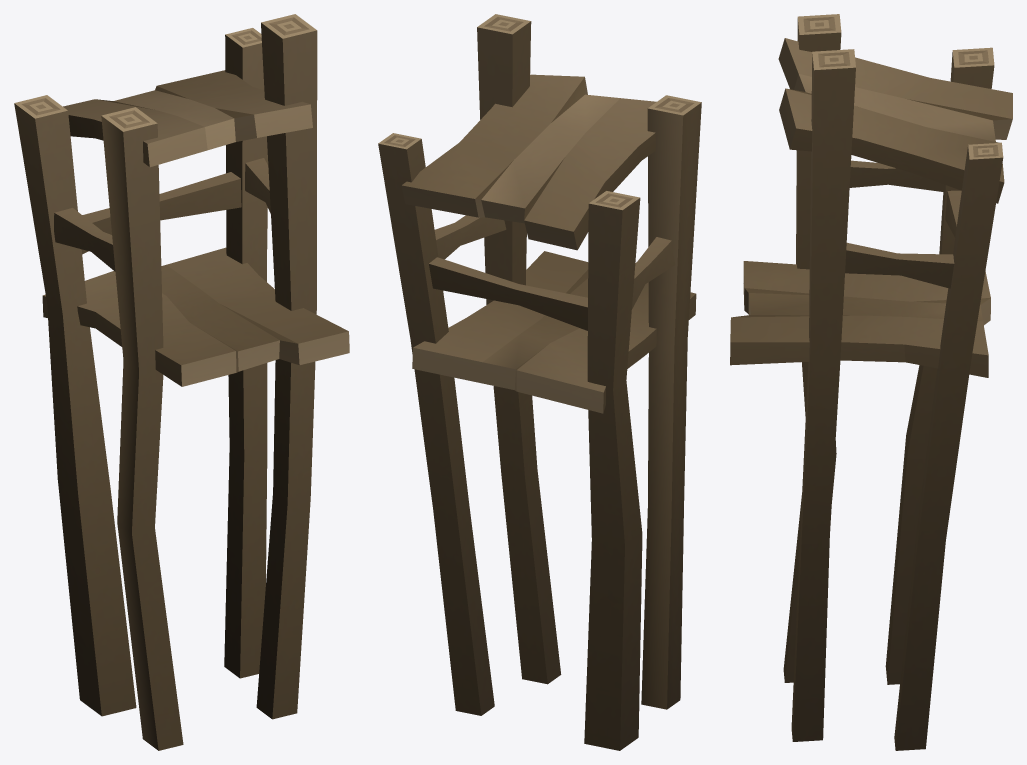
File: orc_high_stand.fbx
3 renders of one model, left to right at view 1: azimuth 30°, elevation 25°; view 2: azimuth 150°, elevation 25°; view 3: azimuth 270°, elevation 25°, orthographic. The views are drawn at different scales.
Visible parts, largest first — view 1: orc_high_stand; view 2: orc_high_stand; view 3: orc_high_stand.
Boxes of the visible parts, x1,y1,x2,y2 form: orc_high_stand: [14, 14, 349, 750]; orc_high_stand: [378, 14, 701, 750]; orc_high_stand: [730, 14, 1012, 750].
Bounding box in the file's own units: 281 × 736 × 273.
